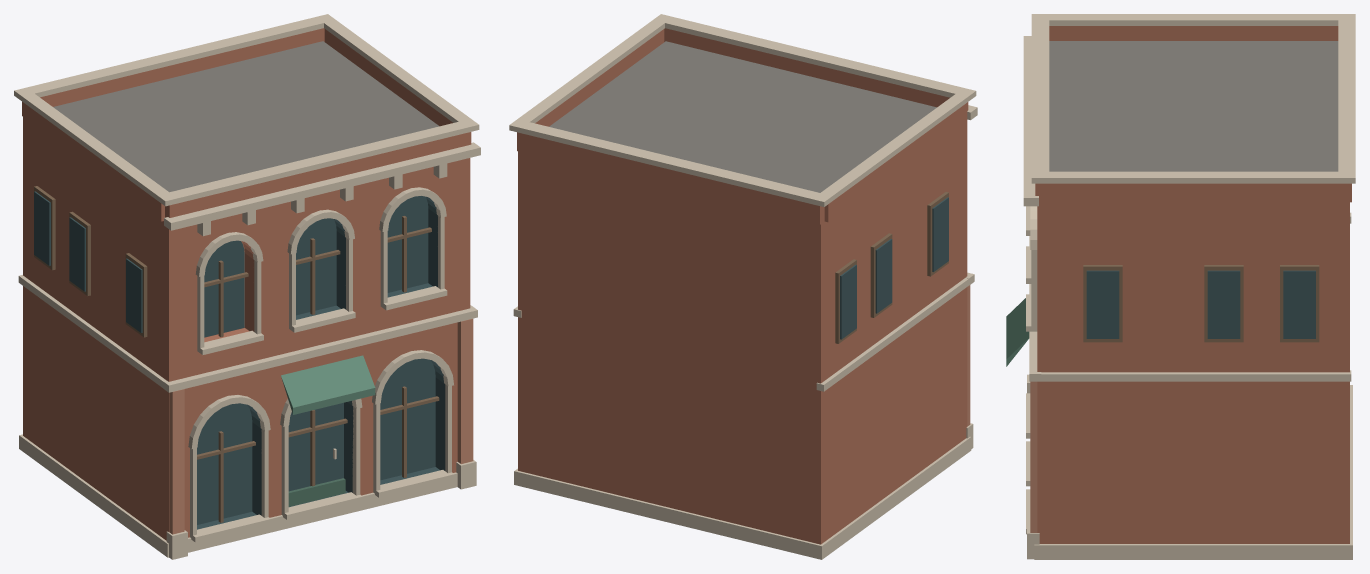
Rendered from building4.glb.
3 renders of one model, left to right at view 1: azimuth 30°, elevation 25°; view 2: azimuth 150°, elevation 25°; view 3: azimuth 270°, elevation 25°, orthographic. The views are drawn at different scales.
Parts seen in each view (by area): view 1: Building4; view 2: Building4; view 3: Building4.
Boxes of the visible parts, <box> form: Building4: <box>14,14,480,559</box>; Building4: <box>509,14,977,559</box>; Building4: <box>1006,14,1355,559</box>.
Bounding box in the file's own units: 7.7 × 8.4 × 6.93.
